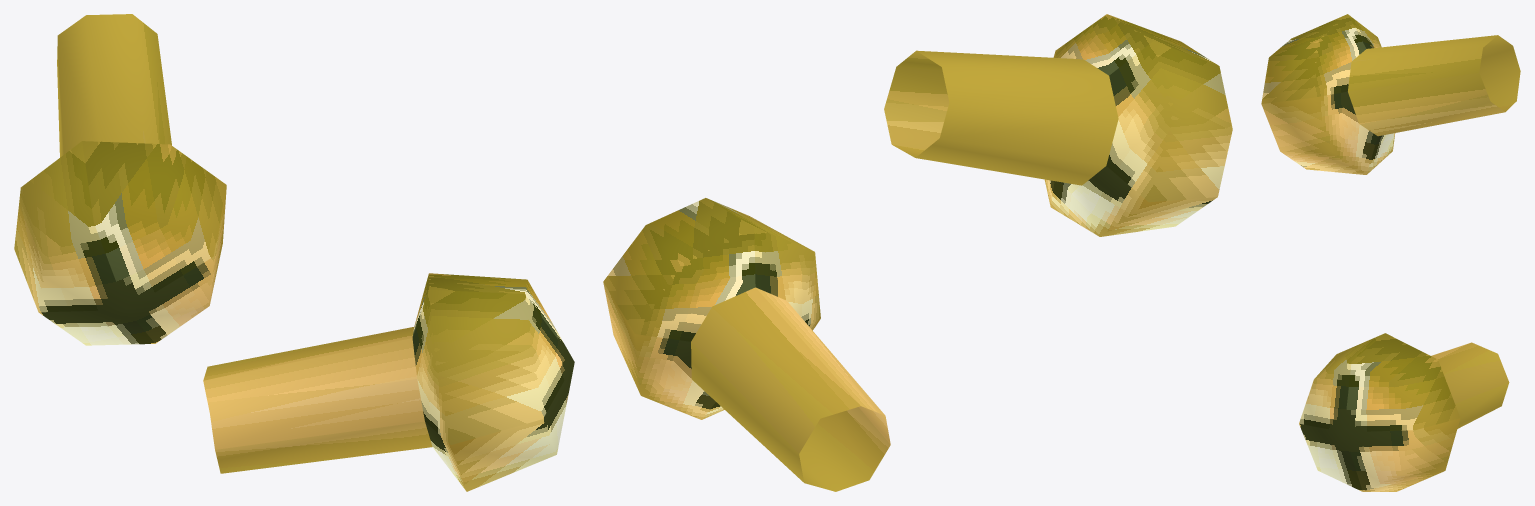
The model's file is a_scre_1.glb.
3 views of the same model, side by side, from view 1: azimuth 30°, elevation 25°; view 2: azimuth 150°, elevation 25°; view 3: azimuth 270°, elevation 25° (orthographic). The views are drawn at different scales.
Visible parts, largest first — view 1: a_scre_1; view 2: a_scre_1; view 3: a_scre_1.
Boxes of the visible parts, x1,y1,x2,y2 form: a_scre_1: (14,14,574,491); a_scre_1: (603,14,1232,491); a_scre_1: (1261,14,1520,491).
Bounding box in the file's own units: 125 × 102 × 69.
1 material, 1 textured.
